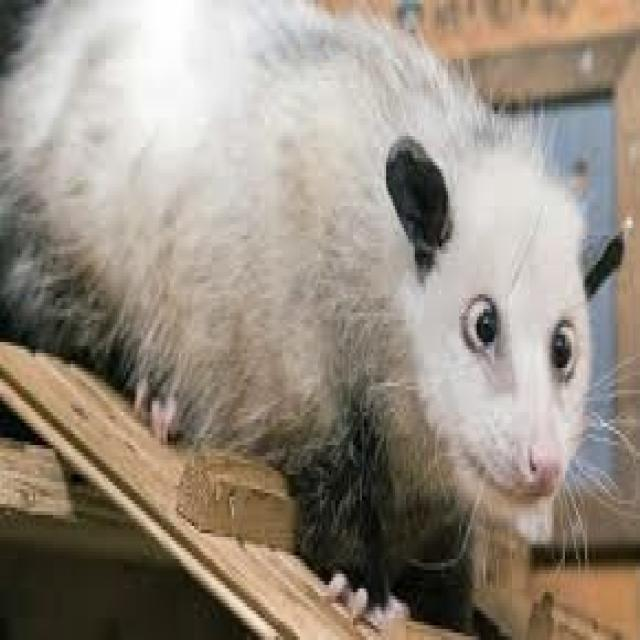possum: (0, 0, 600, 618)
